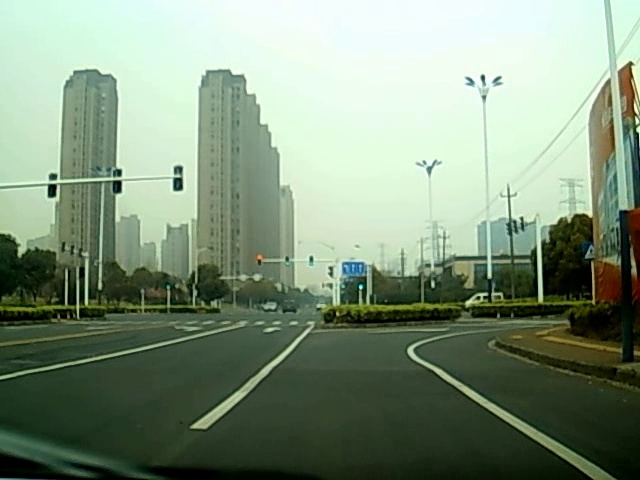Traffic_Light_go: (284, 255, 291, 267), (308, 254, 312, 266)
Traffic_Light_stop: (256, 253, 264, 268)
